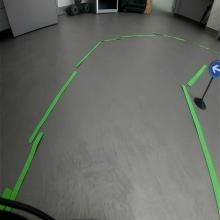left: (208, 59, 220, 78)
